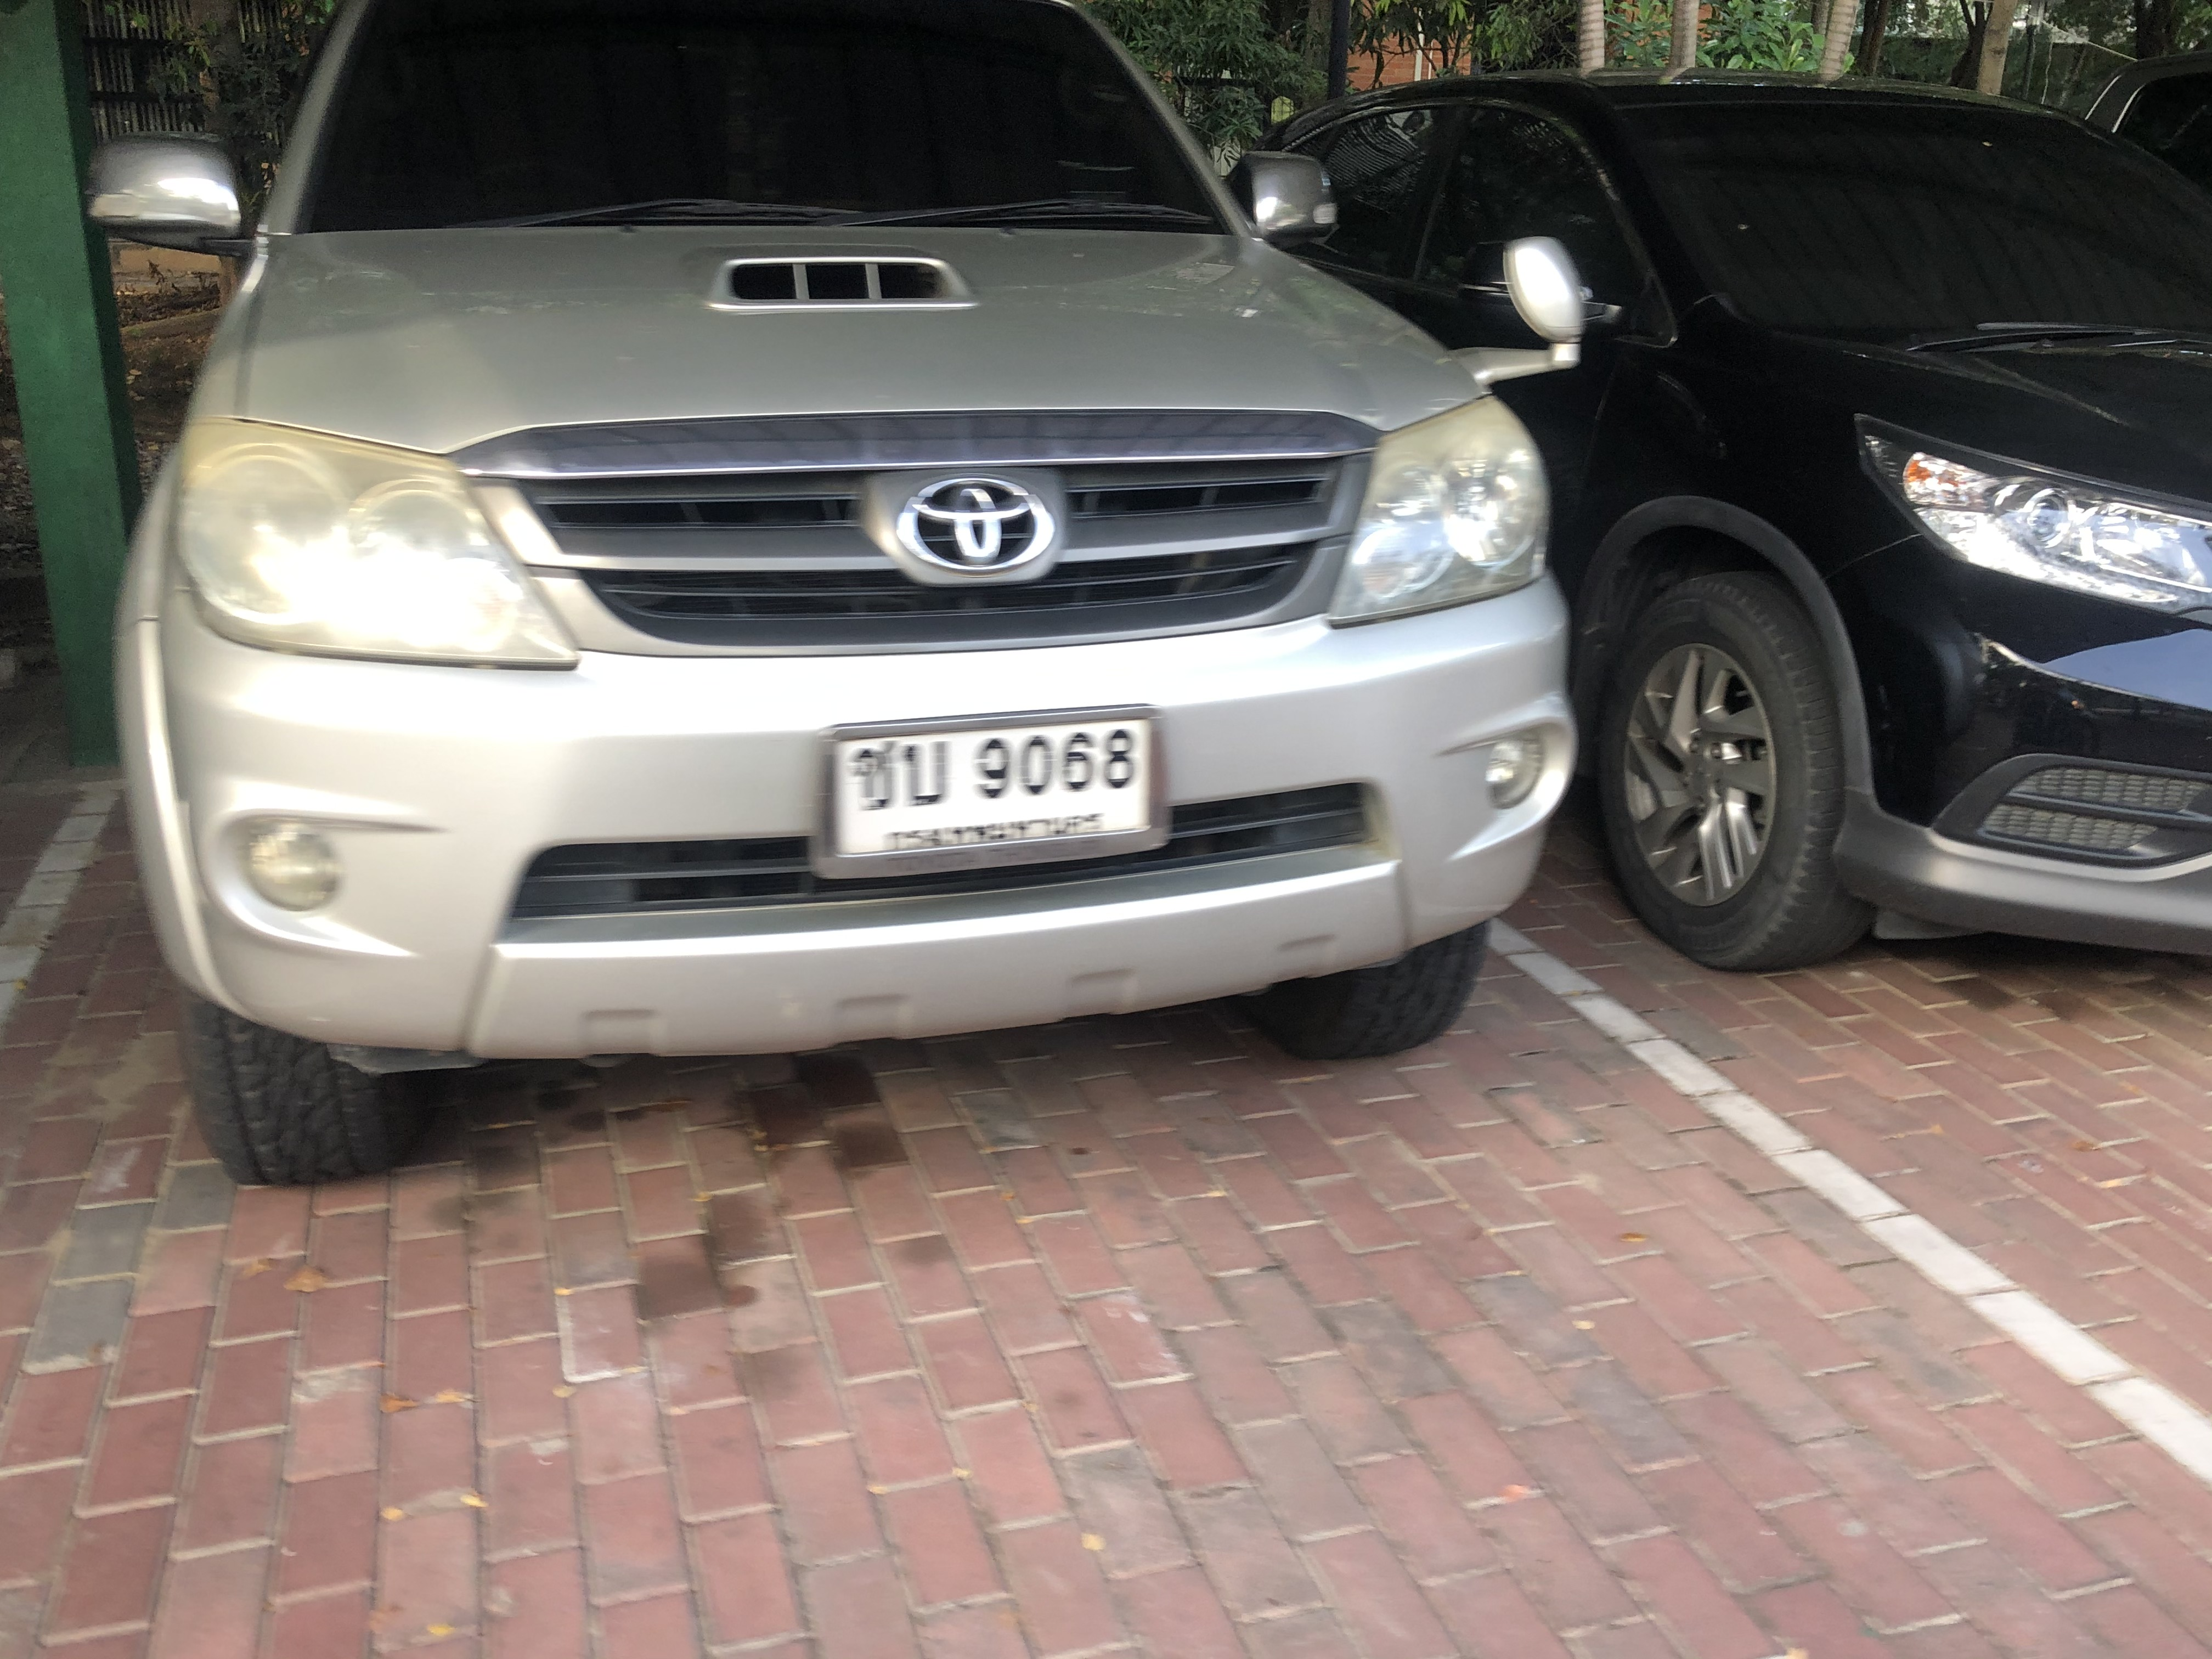in: (838, 721, 1151, 850)
out: (812, 704, 1170, 885)
